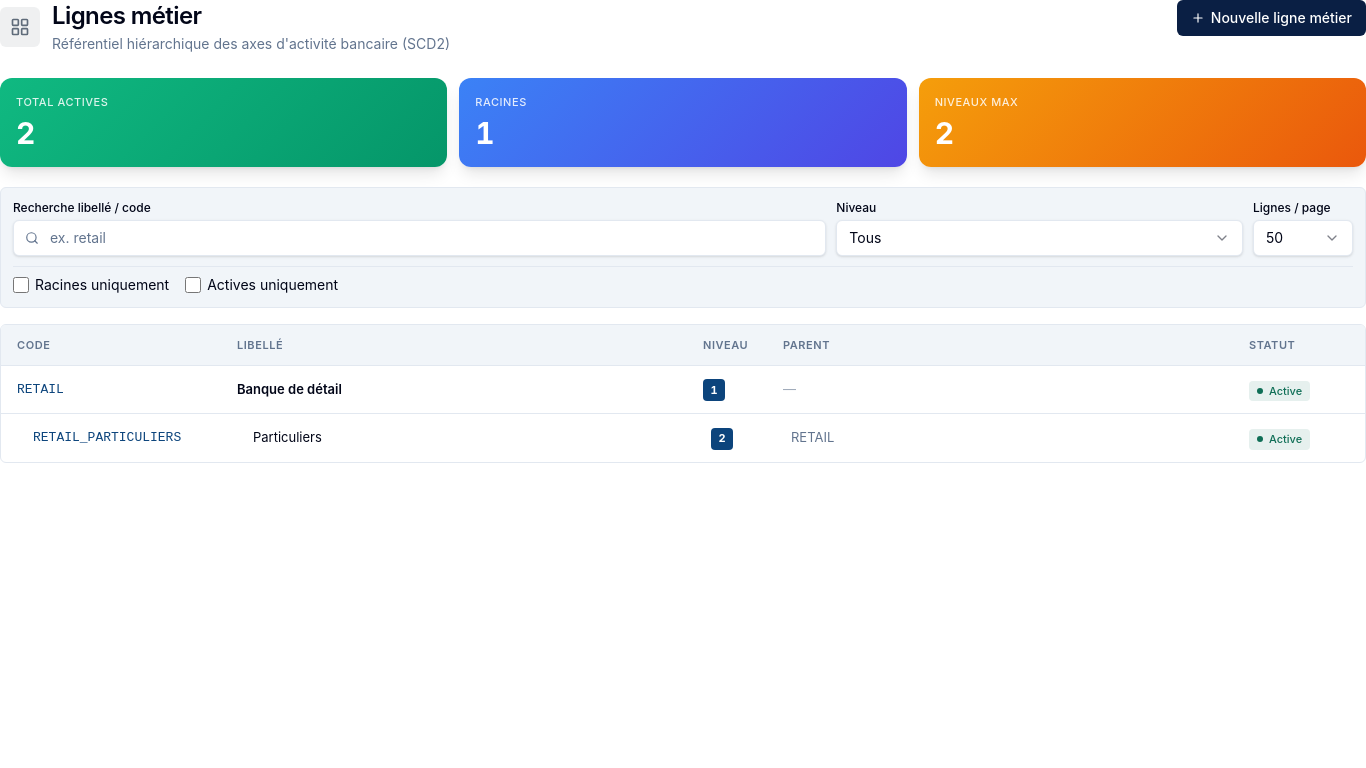
Scenario: LignesMetierPage › clicking a row opens the detail drawer with parent link
Click the text "Particuliers": {"x": 287, "y": 437} [253,429,322,445]
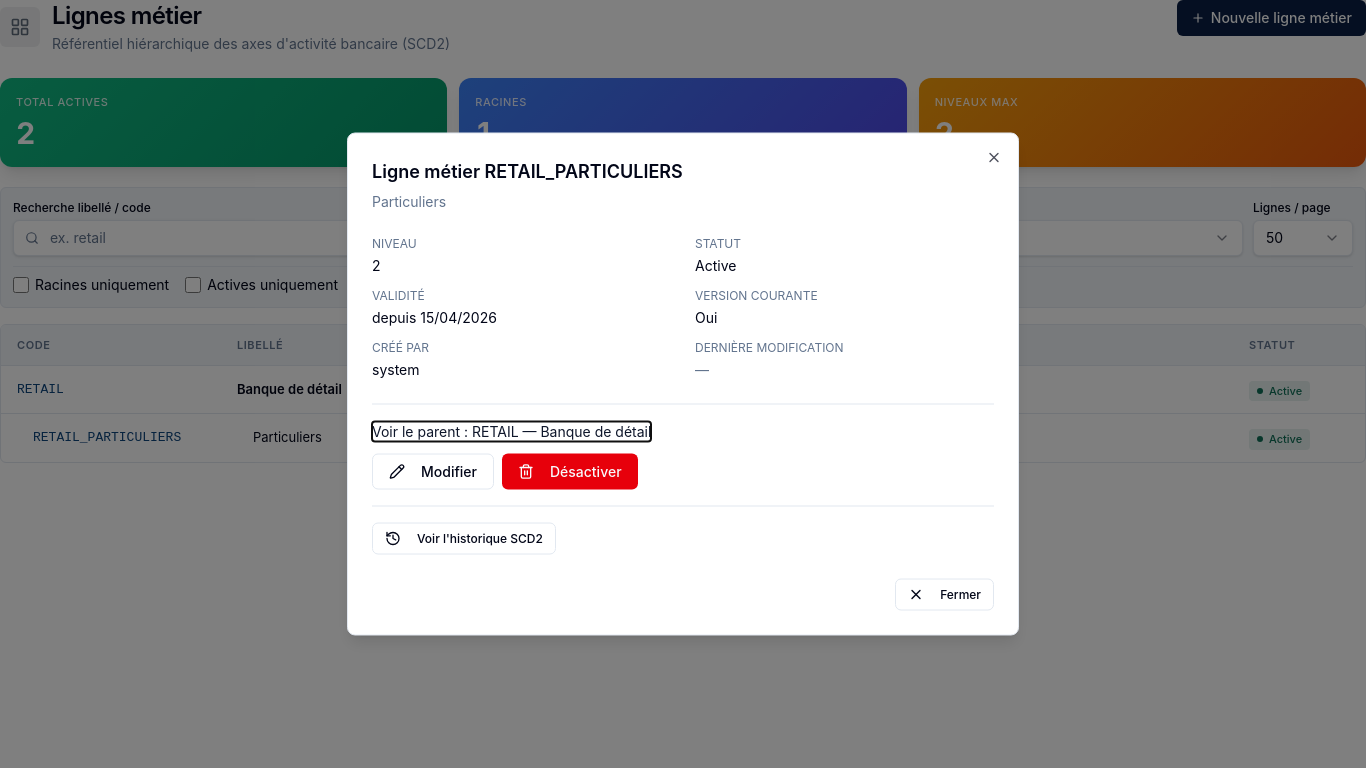
Check: the heading "Ligne métier RETAIL_PARTICULIERS" is shown, box [372,160,683,182]
Check: the button "Voir le parent : RETAIL — Banque de détail" is shown, box [372,422,651,442]
